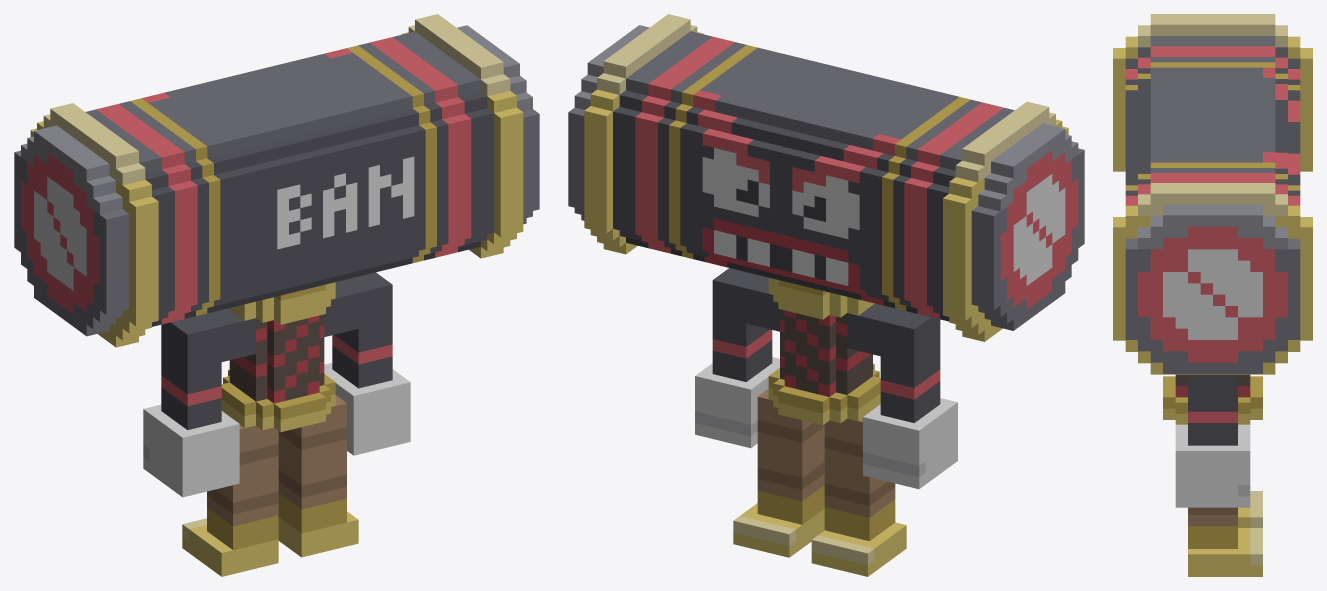
Rendered from BanhammeroGiustiziere.glb.
3 renders of one model, left to right at view 1: azimuth 30°, elevation 25°; view 2: azimuth 150°, elevation 25°; view 3: azimuth 270°, elevation 25°, orthographic. The views are drawn at different scales.
Visible parts, largest first — view 1: geometry_0; view 2: geometry_0; view 3: geometry_0.
Boxes of the visible parts, left/top/right/bottom form: geometry_0: left=14, top=14, right=539, bottom=576; geometry_0: left=568, top=14, right=1084, bottom=576; geometry_0: left=1113, top=14, right=1312, bottom=576.
Bounding box in the file's own units: 0.9048 × 0.9286 × 0.381.
